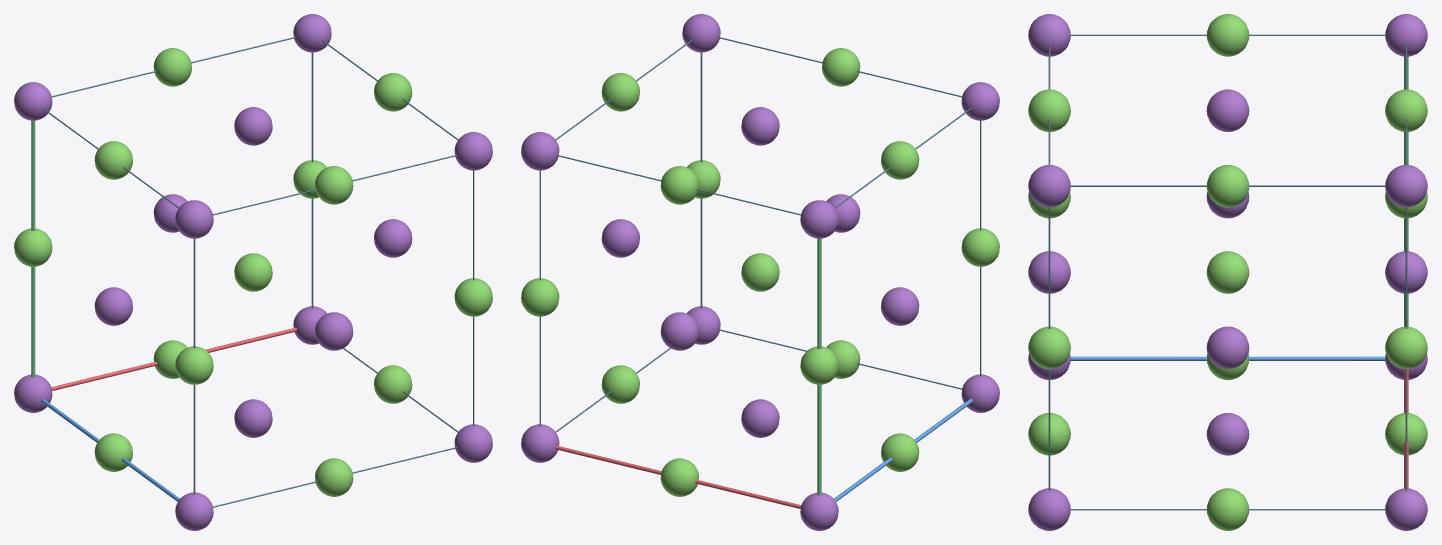
The model's file is chat-potassium-fluoride.glb.
3 views of the same model, side by side, from view 1: azimuth 30°, elevation 25°; view 2: azimuth 150°, elevation 25°; view 3: azimuth 270°, elevation 25° (orthographic). The views are drawn at different scales.
Parts seen in each view (by area): view 1: K1 · K · 1 (×14), F1 · F · 1 (×13), Ô mạng và các trục a, b, c; view 2: K1 · K · 1 (×14), F1 · F · 1 (×13), Ô mạng và các trục a, b, c; view 3: K1 · K · 1 (×13), F1 · F · 1 (×13), Ô mạng và các trục a, b, c.
Part boxes in pixels (bbox=[...]): K1 · K · 1 (×14): bbox=[14, 14, 492, 530]; F1 · F · 1 (×13): bbox=[14, 48, 492, 496]; Ô mạng và các trục a, b, c: bbox=[31, 36, 474, 507]; K1 · K · 1 (×14): bbox=[521, 14, 999, 530]; F1 · F · 1 (×13): bbox=[521, 48, 999, 496]; Ô mạng và các trục a, b, c: bbox=[539, 36, 981, 508]; K1 · K · 1 (×13): bbox=[1028, 14, 1427, 530]; F1 · F · 1 (×13): bbox=[1028, 14, 1427, 530]; Ô mạng và các trục a, b, c: bbox=[1048, 34, 1408, 510].
Bounding box in the file's own units: 5.98 × 5.98 × 5.98.
